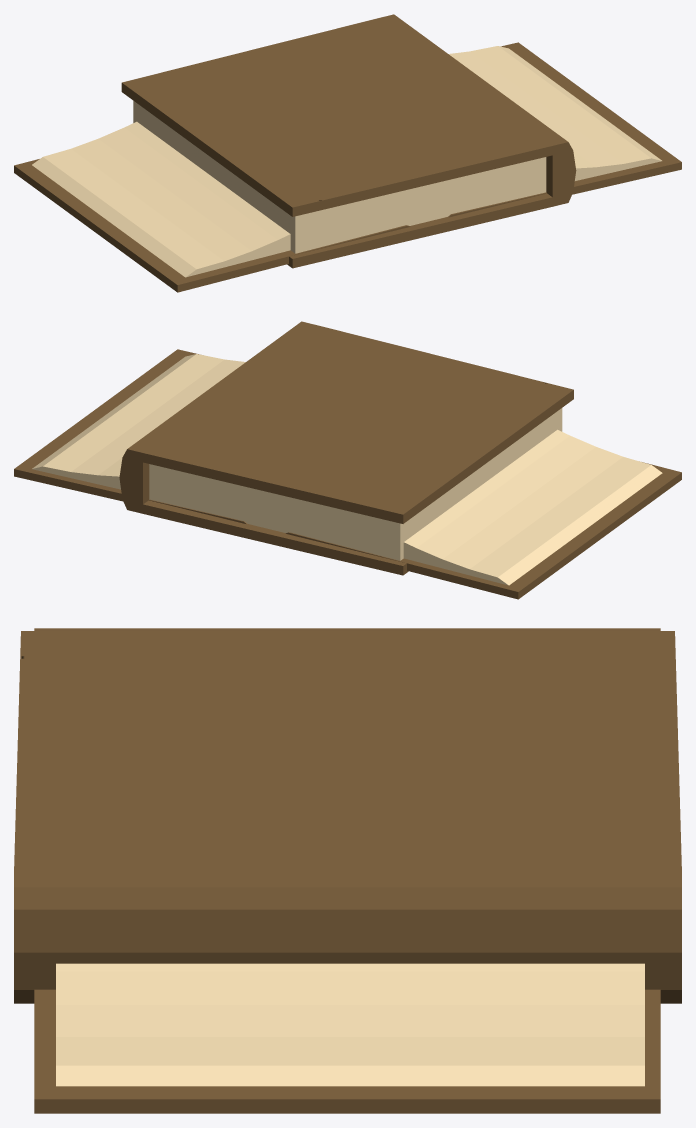
Rendered from Book.fbx.
3 renders of one model, top to bottom at view 1: azimuth 30°, elevation 25°; view 2: azimuth 150°, elevation 25°; view 3: azimuth 270°, elevation 25°, orthographic. The views are drawn at different scales.
Parts seen in each view (by area): view 1: Cube, Book; view 2: Cube, Book; view 3: Cube, Book.
Boxes of the visible parts, left/top/right/bottom form: Cube: left=121, top=14, right=576, bottom=268; Book: left=14, top=42, right=681, bottom=292; Cube: left=119, top=321, right=573, bottom=575; Book: left=14, top=349, right=681, bottom=599; Cube: left=14, top=631, right=681, bottom=1003; Book: left=34, top=628, right=660, bottom=1113.
Bounding box in the file's own units: 4.44 × 0.5335 × 2.66.
Materials: 2 (2 with a texture image).
